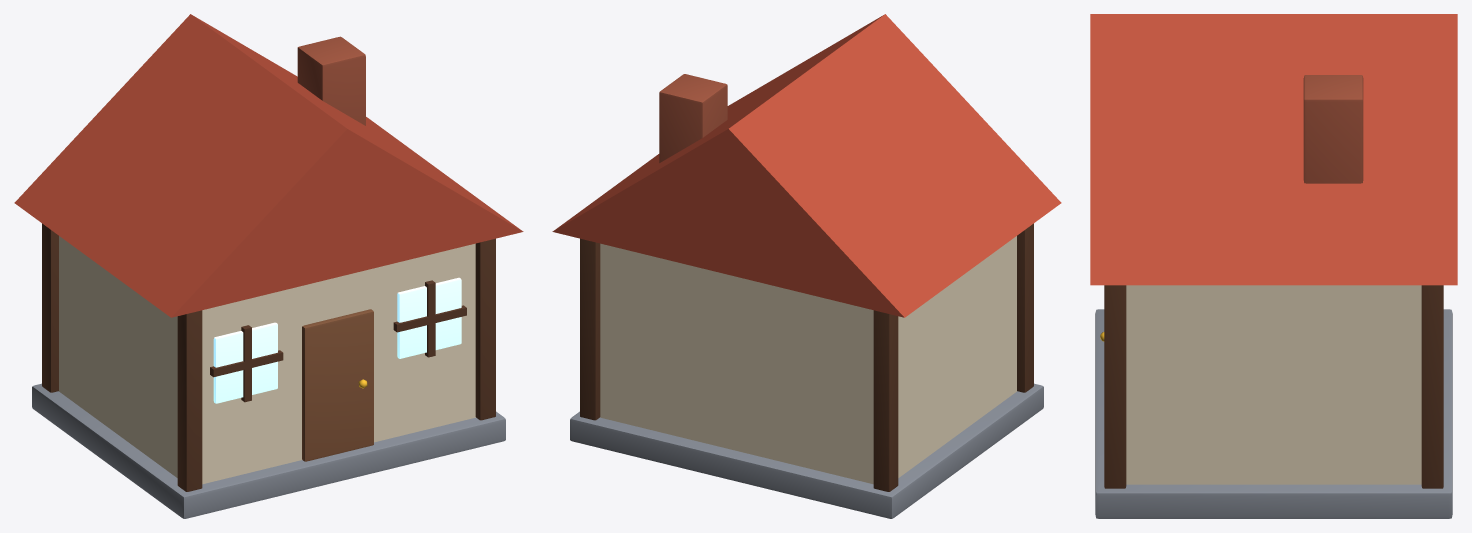
File: house.glb
3 views of the same model, side by side, from view 1: azimuth 30°, elevation 25°; view 2: azimuth 150°, elevation 25°; view 3: azimuth 270°, elevation 25° (orthographic). The views are drawn at different scales.
Parts seen in each view (by area): view 1: house; view 2: house; view 3: house.
Part boxes in pixels (x1,y1,x2,y2): house: (14, 14, 523, 518); house: (552, 14, 1061, 518); house: (1090, 14, 1457, 518).
Bounding box in the file's own units: 4.8 × 4.6 × 3.7.
